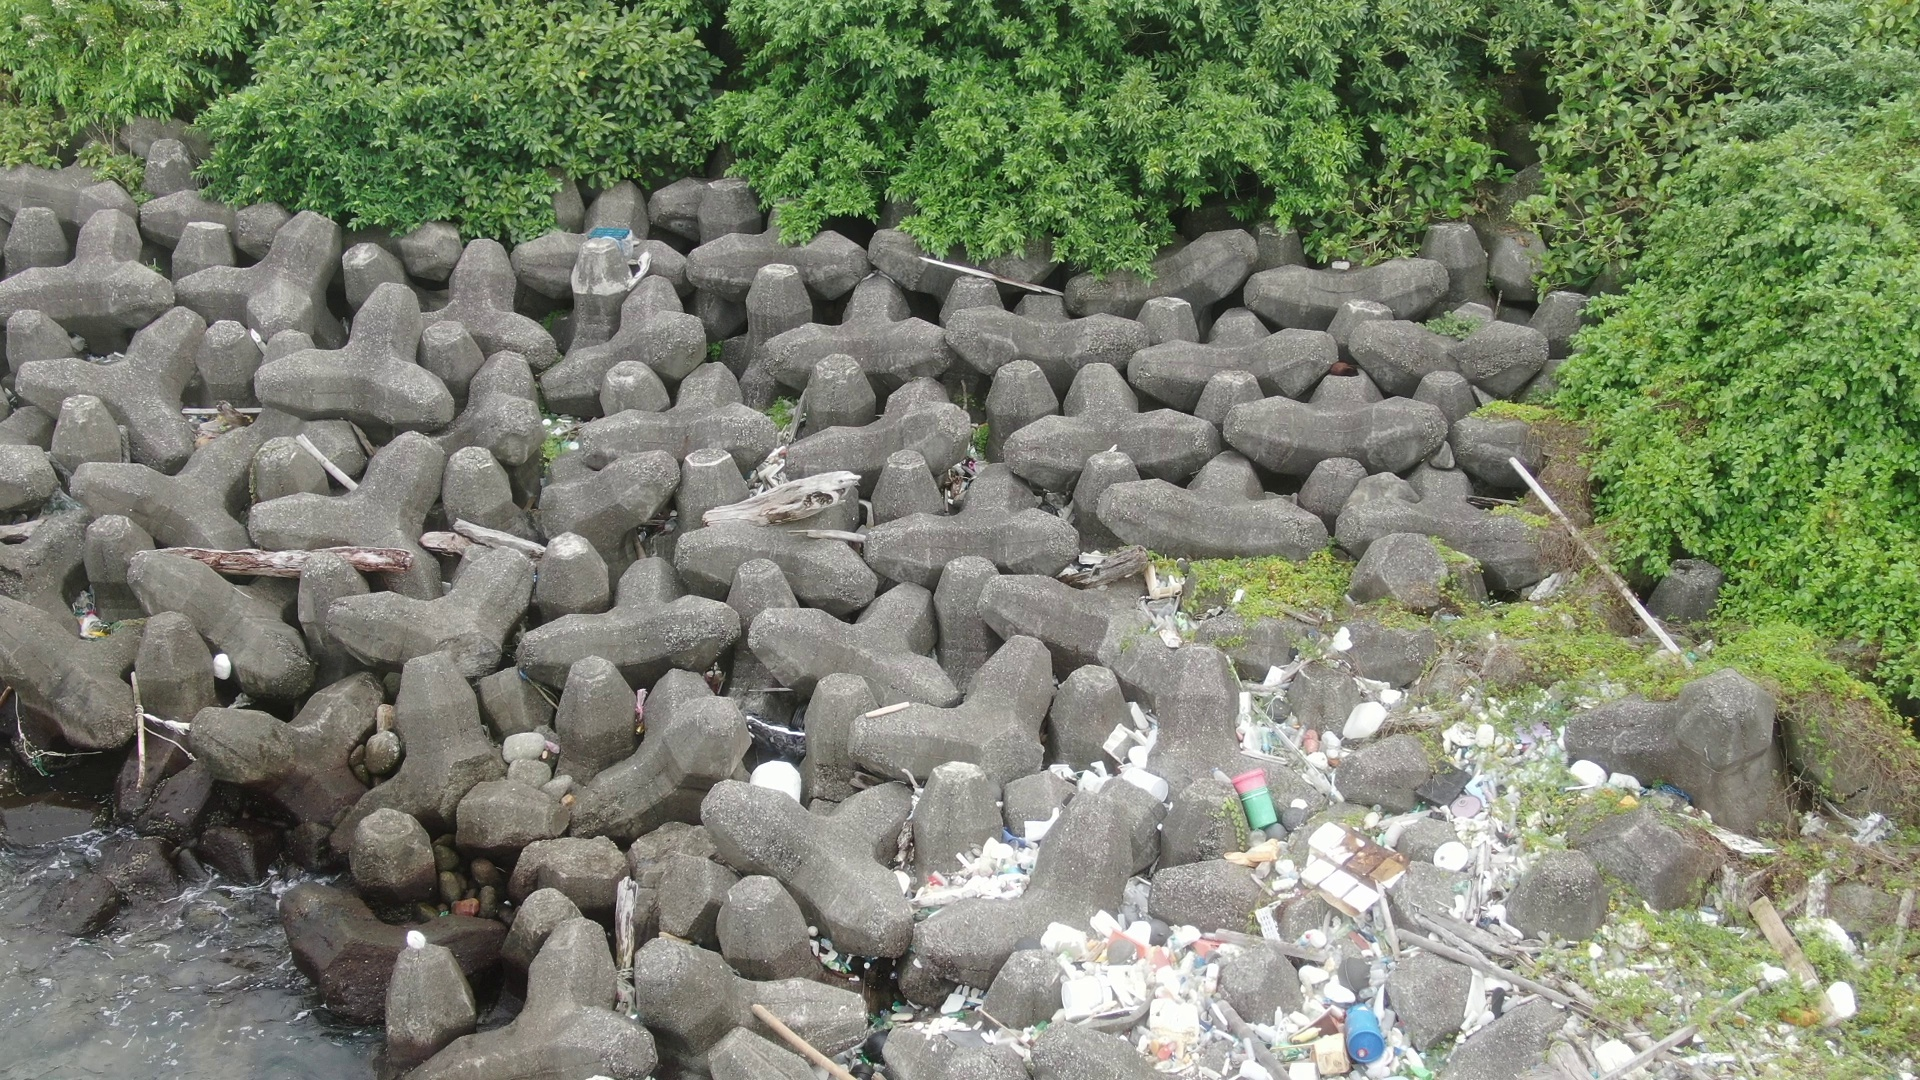garbage: (895, 611, 1696, 1077), (1753, 880, 1887, 1056), (800, 916, 887, 994), (65, 579, 111, 651), (582, 215, 645, 268)
